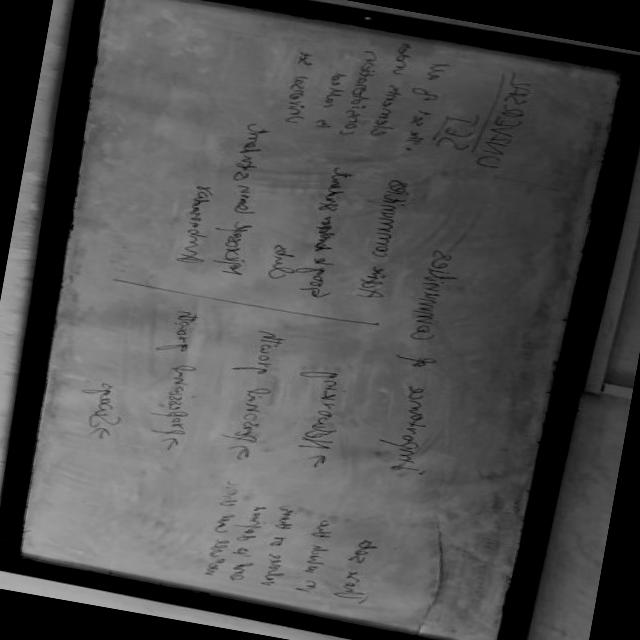White-board: (8, 0, 640, 640)
